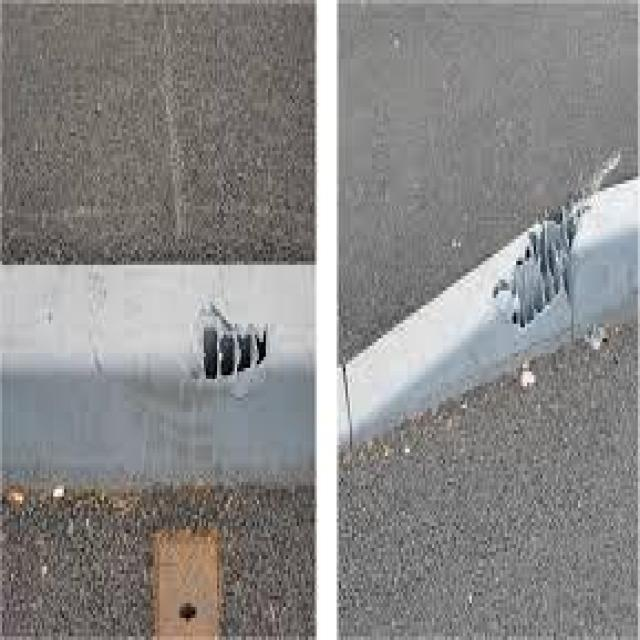curb: (6, 259, 313, 494), (347, 208, 578, 454)
